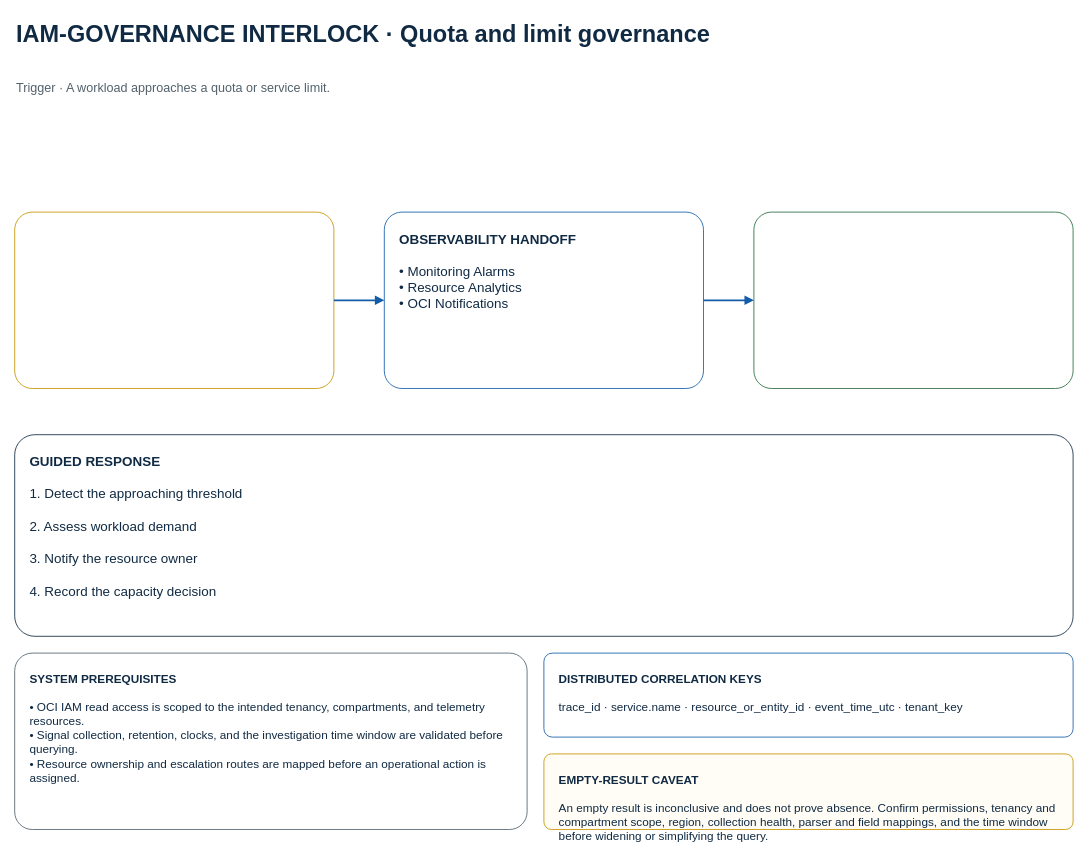
Image size: 1088x858. Some labels were removed from this diagram. Here are the shapes that lost their labels. From the top down, the centre of each, then its label:
[174,299]: SOURCE EVIDENCE • Service limit context • Usage signals • Compartment ownership
[913,299]: OPERATIONAL OUTCOME • Prevent a capacity issue with accountable planning.
